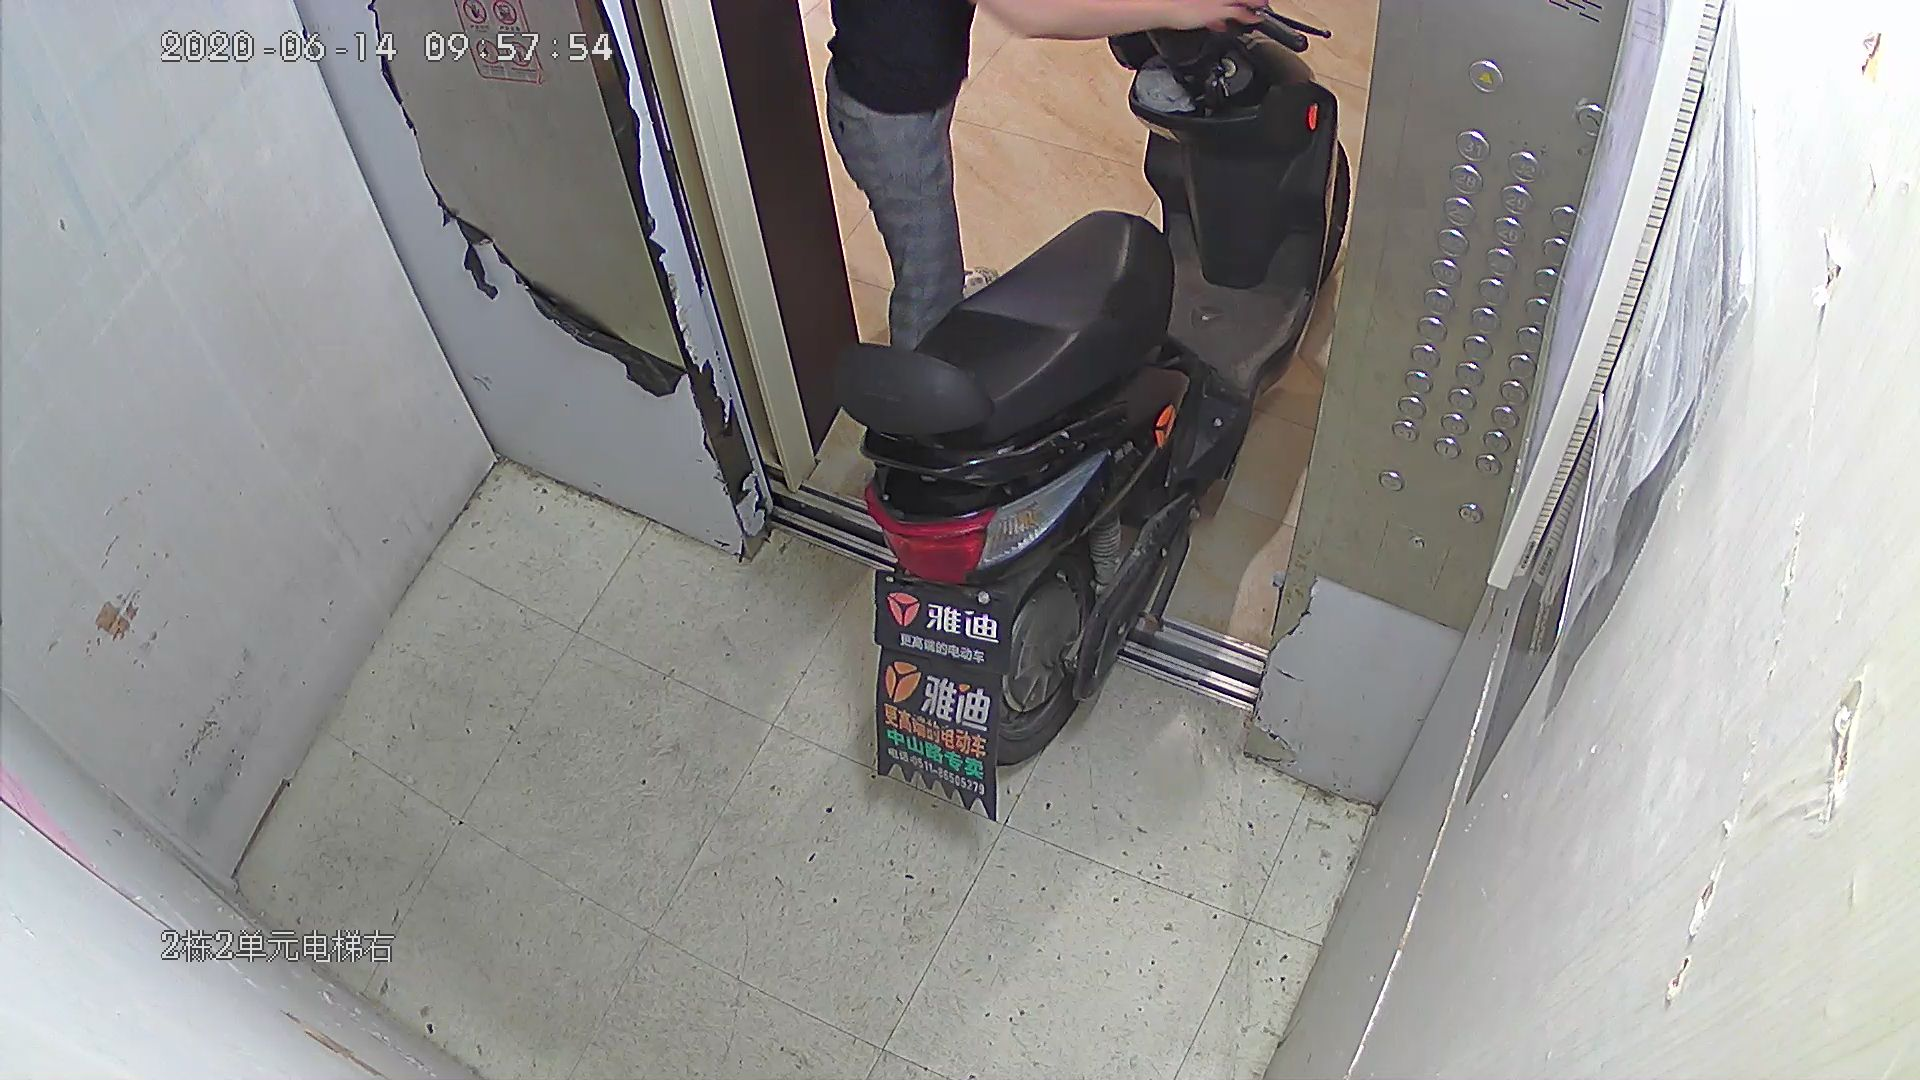Electric-bicycle: (847, 3, 1346, 767)
